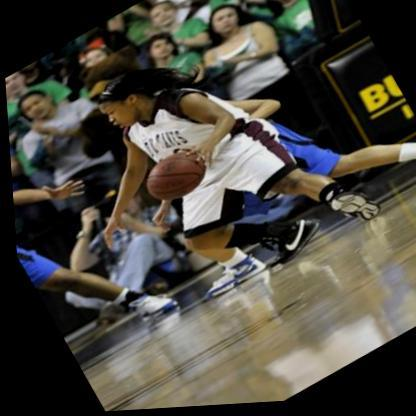basketball: (134, 143, 217, 215)
